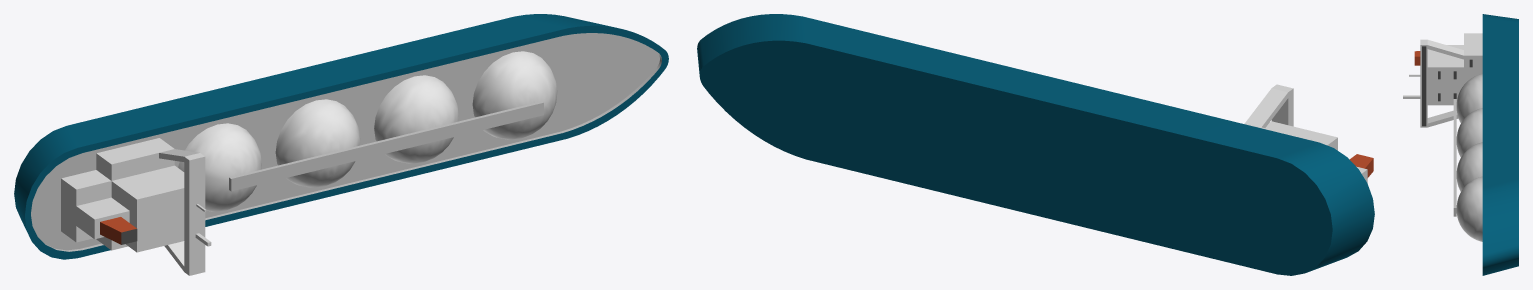
File: gas_carrier.dae
3 renders of one model, left to right at view 1: azimuth 30°, elevation 25°; view 2: azimuth 150°, elevation 25°; view 3: azimuth 270°, elevation 25°, orthographic. The views are drawn at different scales.
Visible parts, largest first — view 1: coords_ME_ID29_MA_material_11, coords_ME_ID43_MA_material_21, coords_ME_ID37_MA_material_8, coords_ME_ID3_MA_material_8, coords_ME_ID11_MA_material_8, coords_ME_ID23_MA_material_8, coords_ME_ID91_MA_material_11, coords_ME_ID17_MA_material_8, coords_ME_ID63_MA_material_14; view 2: coords_ME_ID43_MA_material_21, coords_ME_ID37_MA_material_8; view 3: coords_ME_ID43_MA_material_21, coords_ME_ID37_MA_material_8, coords_ME_ID3_MA_material_8, coords_ME_ID23_MA_material_8, coords_ME_ID11_MA_material_8, coords_ME_ID17_MA_material_8, coords_ME_ID91_MA_material_11, coords_ME_ID109_MA_material, coords_ME_ID63_MA_material_14.
Part boxes in pixels (x1,y1,x2,y2): coords_ME_ID29_MA_material_11: (31, 33, 661, 251); coords_ME_ID43_MA_material_21: (14, 14, 668, 259); coords_ME_ID37_MA_material_8: (61, 138, 205, 275); coords_ME_ID3_MA_material_8: (472, 51, 557, 139); coords_ME_ID11_MA_material_8: (275, 99, 360, 187); coords_ME_ID23_MA_material_8: (374, 75, 458, 163); coords_ME_ID91_MA_material_11: (229, 101, 543, 191); coords_ME_ID17_MA_material_8: (178, 123, 261, 211); coords_ME_ID63_MA_material_14: (100, 217, 136, 244); coords_ME_ID43_MA_material_21: (697, 14, 1374, 275); coords_ME_ID37_MA_material_8: (1244, 84, 1367, 182); coords_ME_ID43_MA_material_21: (1482, 14, 1518, 275); coords_ME_ID37_MA_material_8: (1420, 33, 1482, 127); coords_ME_ID3_MA_material_8: (1456, 176, 1482, 241); coords_ME_ID23_MA_material_8: (1456, 142, 1482, 191); coords_ME_ID11_MA_material_8: (1456, 108, 1482, 157); coords_ME_ID17_MA_material_8: (1456, 74, 1482, 122); coords_ME_ID91_MA_material_11: (1453, 99, 1456, 216); coords_ME_ID109_MA_material: (1422, 46, 1426, 126); coords_ME_ID63_MA_material_14: (1414, 51, 1420, 65).
Size of the model in its own units: 1154 by 198 by 252.
